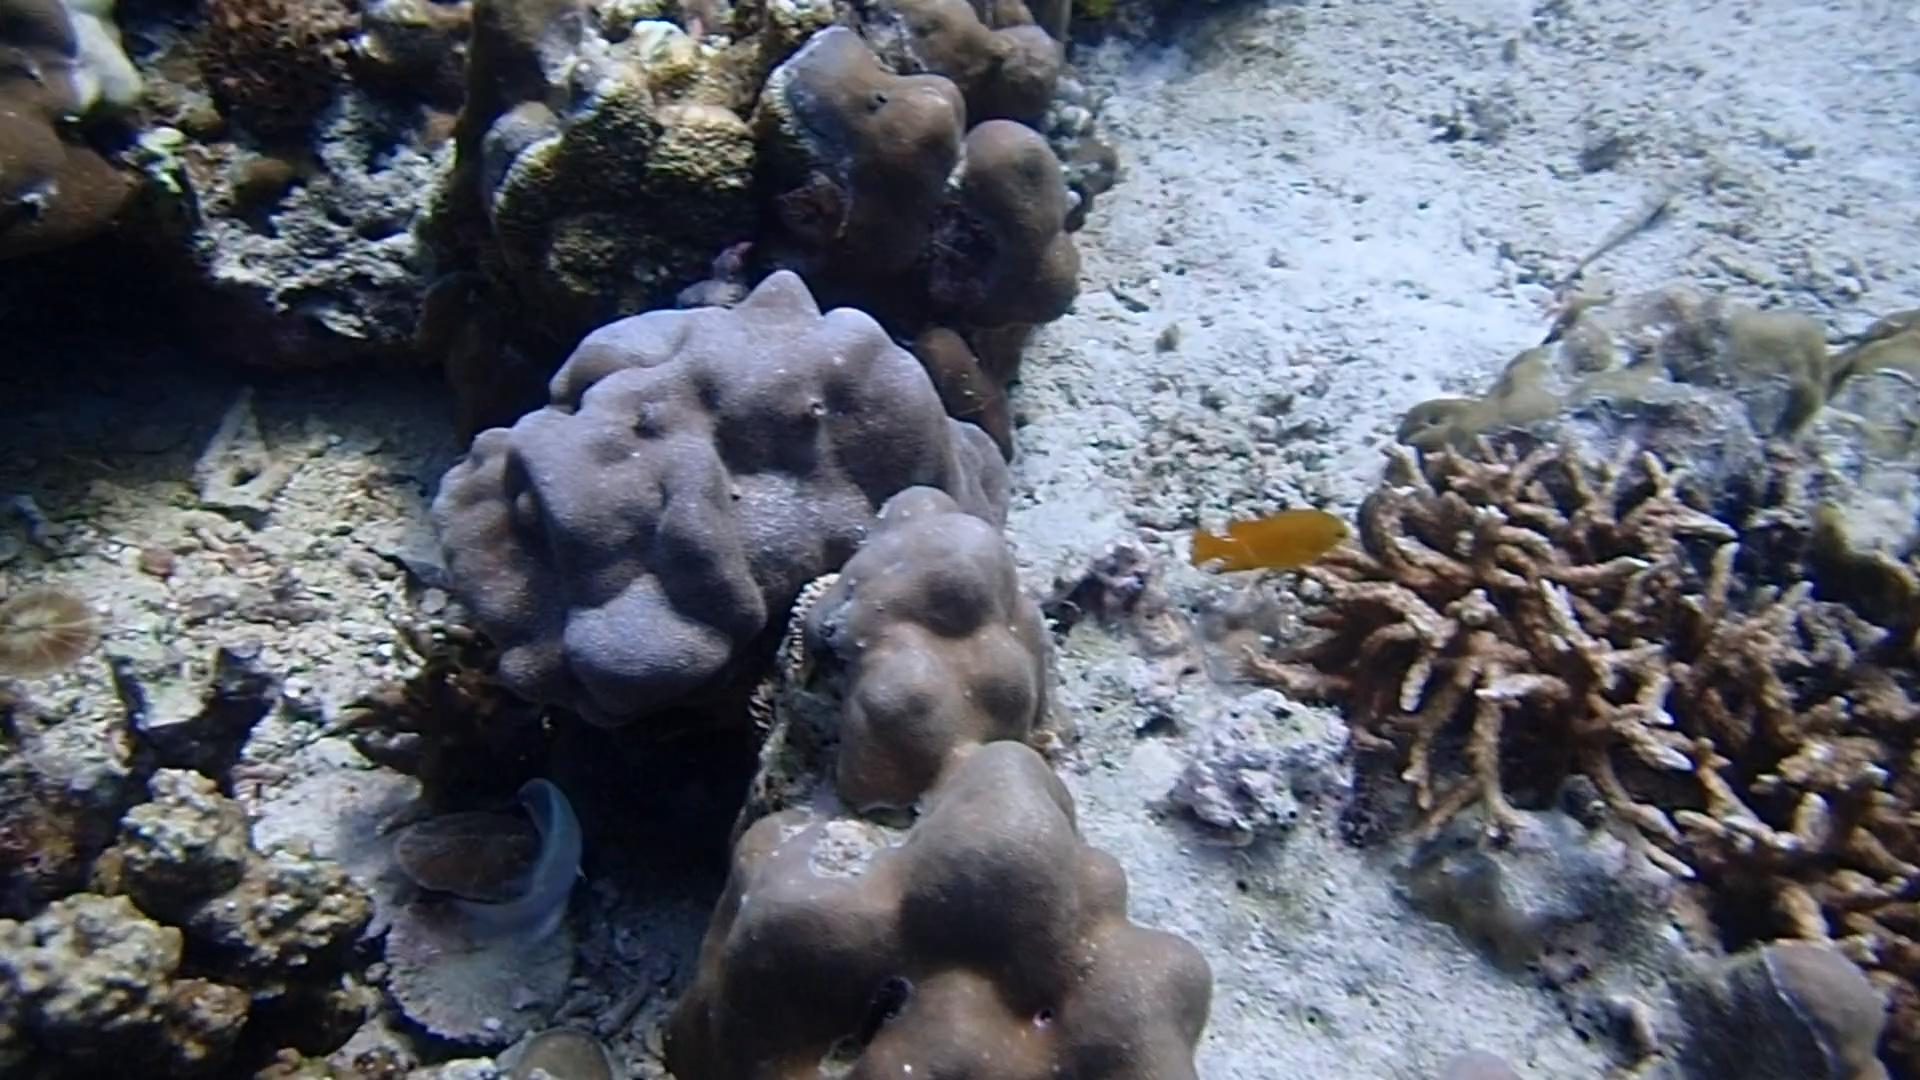Blue Fish Two: (433, 764, 601, 952)
Yellow Fish: (1179, 495, 1361, 588)
